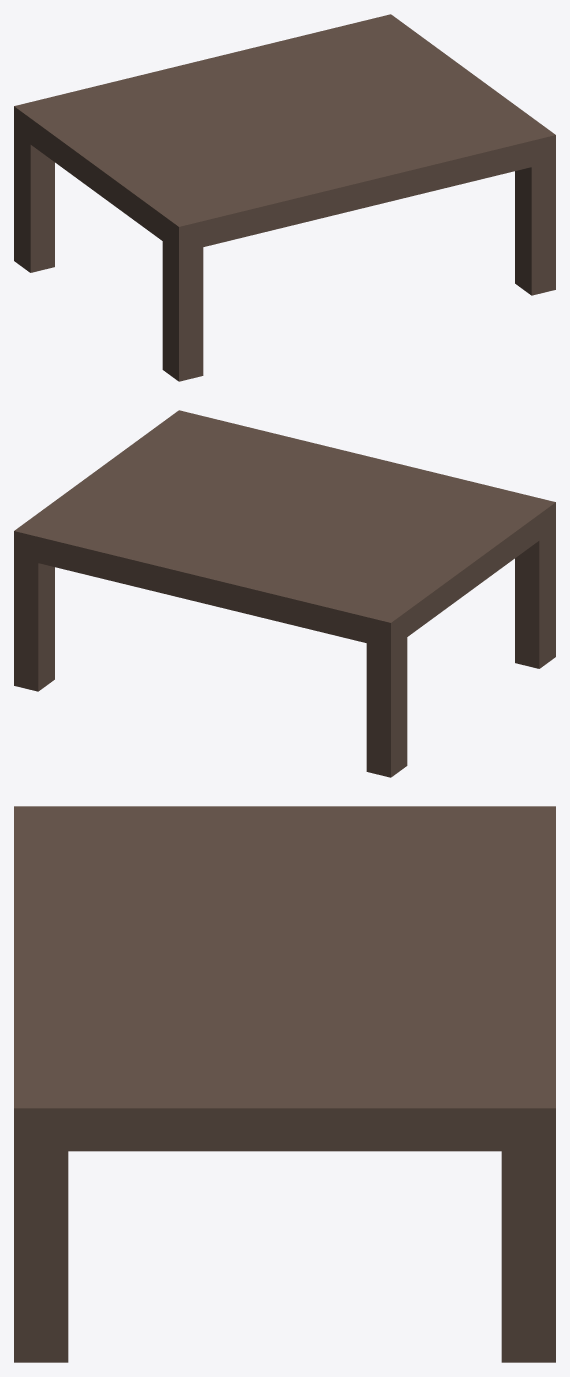
Rendered from techo.fbx.
3 renders of one model, top to bottom at view 1: azimuth 30°, elevation 25°; view 2: azimuth 150°, elevation 25°; view 3: azimuth 270°, elevation 25°, orthographic. The views are drawn at different scales.
Parts seen in each view (by area): view 1: Cube.003; view 2: Cube.003; view 3: Cube.003.
Part boxes in pixels (x1,y1,x2,y2): Cube.003: (14, 14, 555, 381); Cube.003: (14, 410, 555, 777); Cube.003: (14, 806, 555, 1362).
Bounding box in the file's own units: 1078 × 423 × 818.
